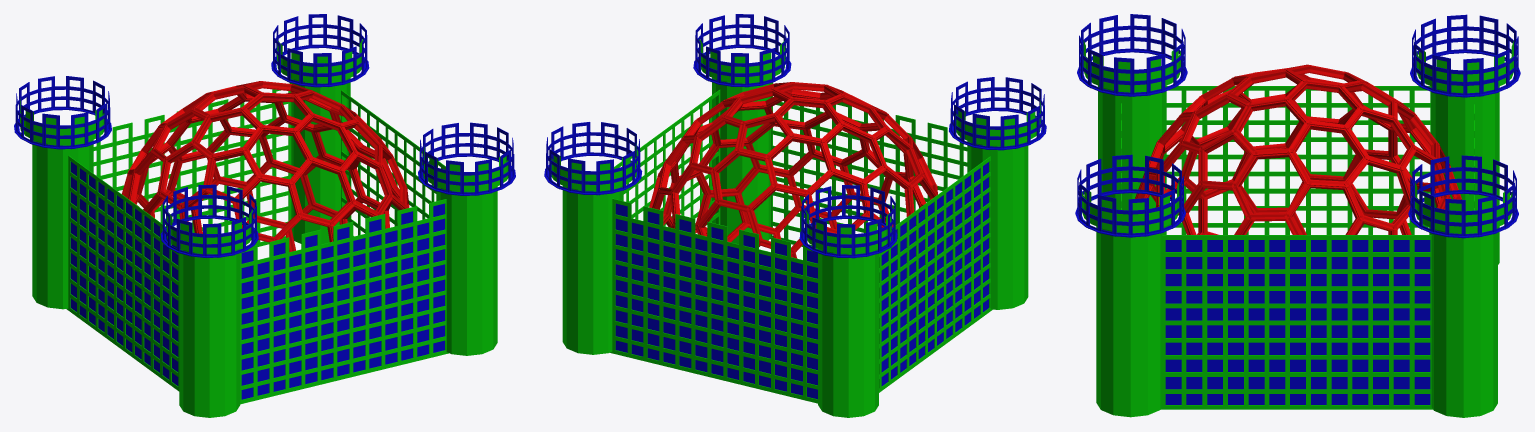
The model's file is castle.glb.
3 renders of one model, left to right at view 1: azimuth 30°, elevation 25°; view 2: azimuth 150°, elevation 25°; view 3: azimuth 270°, elevation 25°, orthographic. The views are drawn at different scales.
Parts seen in each view (by area): view 1: geo1; view 2: geo1; view 3: geo1.
Part boxes in pixels (<box>): geo1: <box>14,14,515,417</box>; geo1: <box>544,14,1046,417</box>; geo1: <box>1075,14,1520,417</box>.
Bounding box in the file's own units: 11.02 × 8.24 × 11.02.
